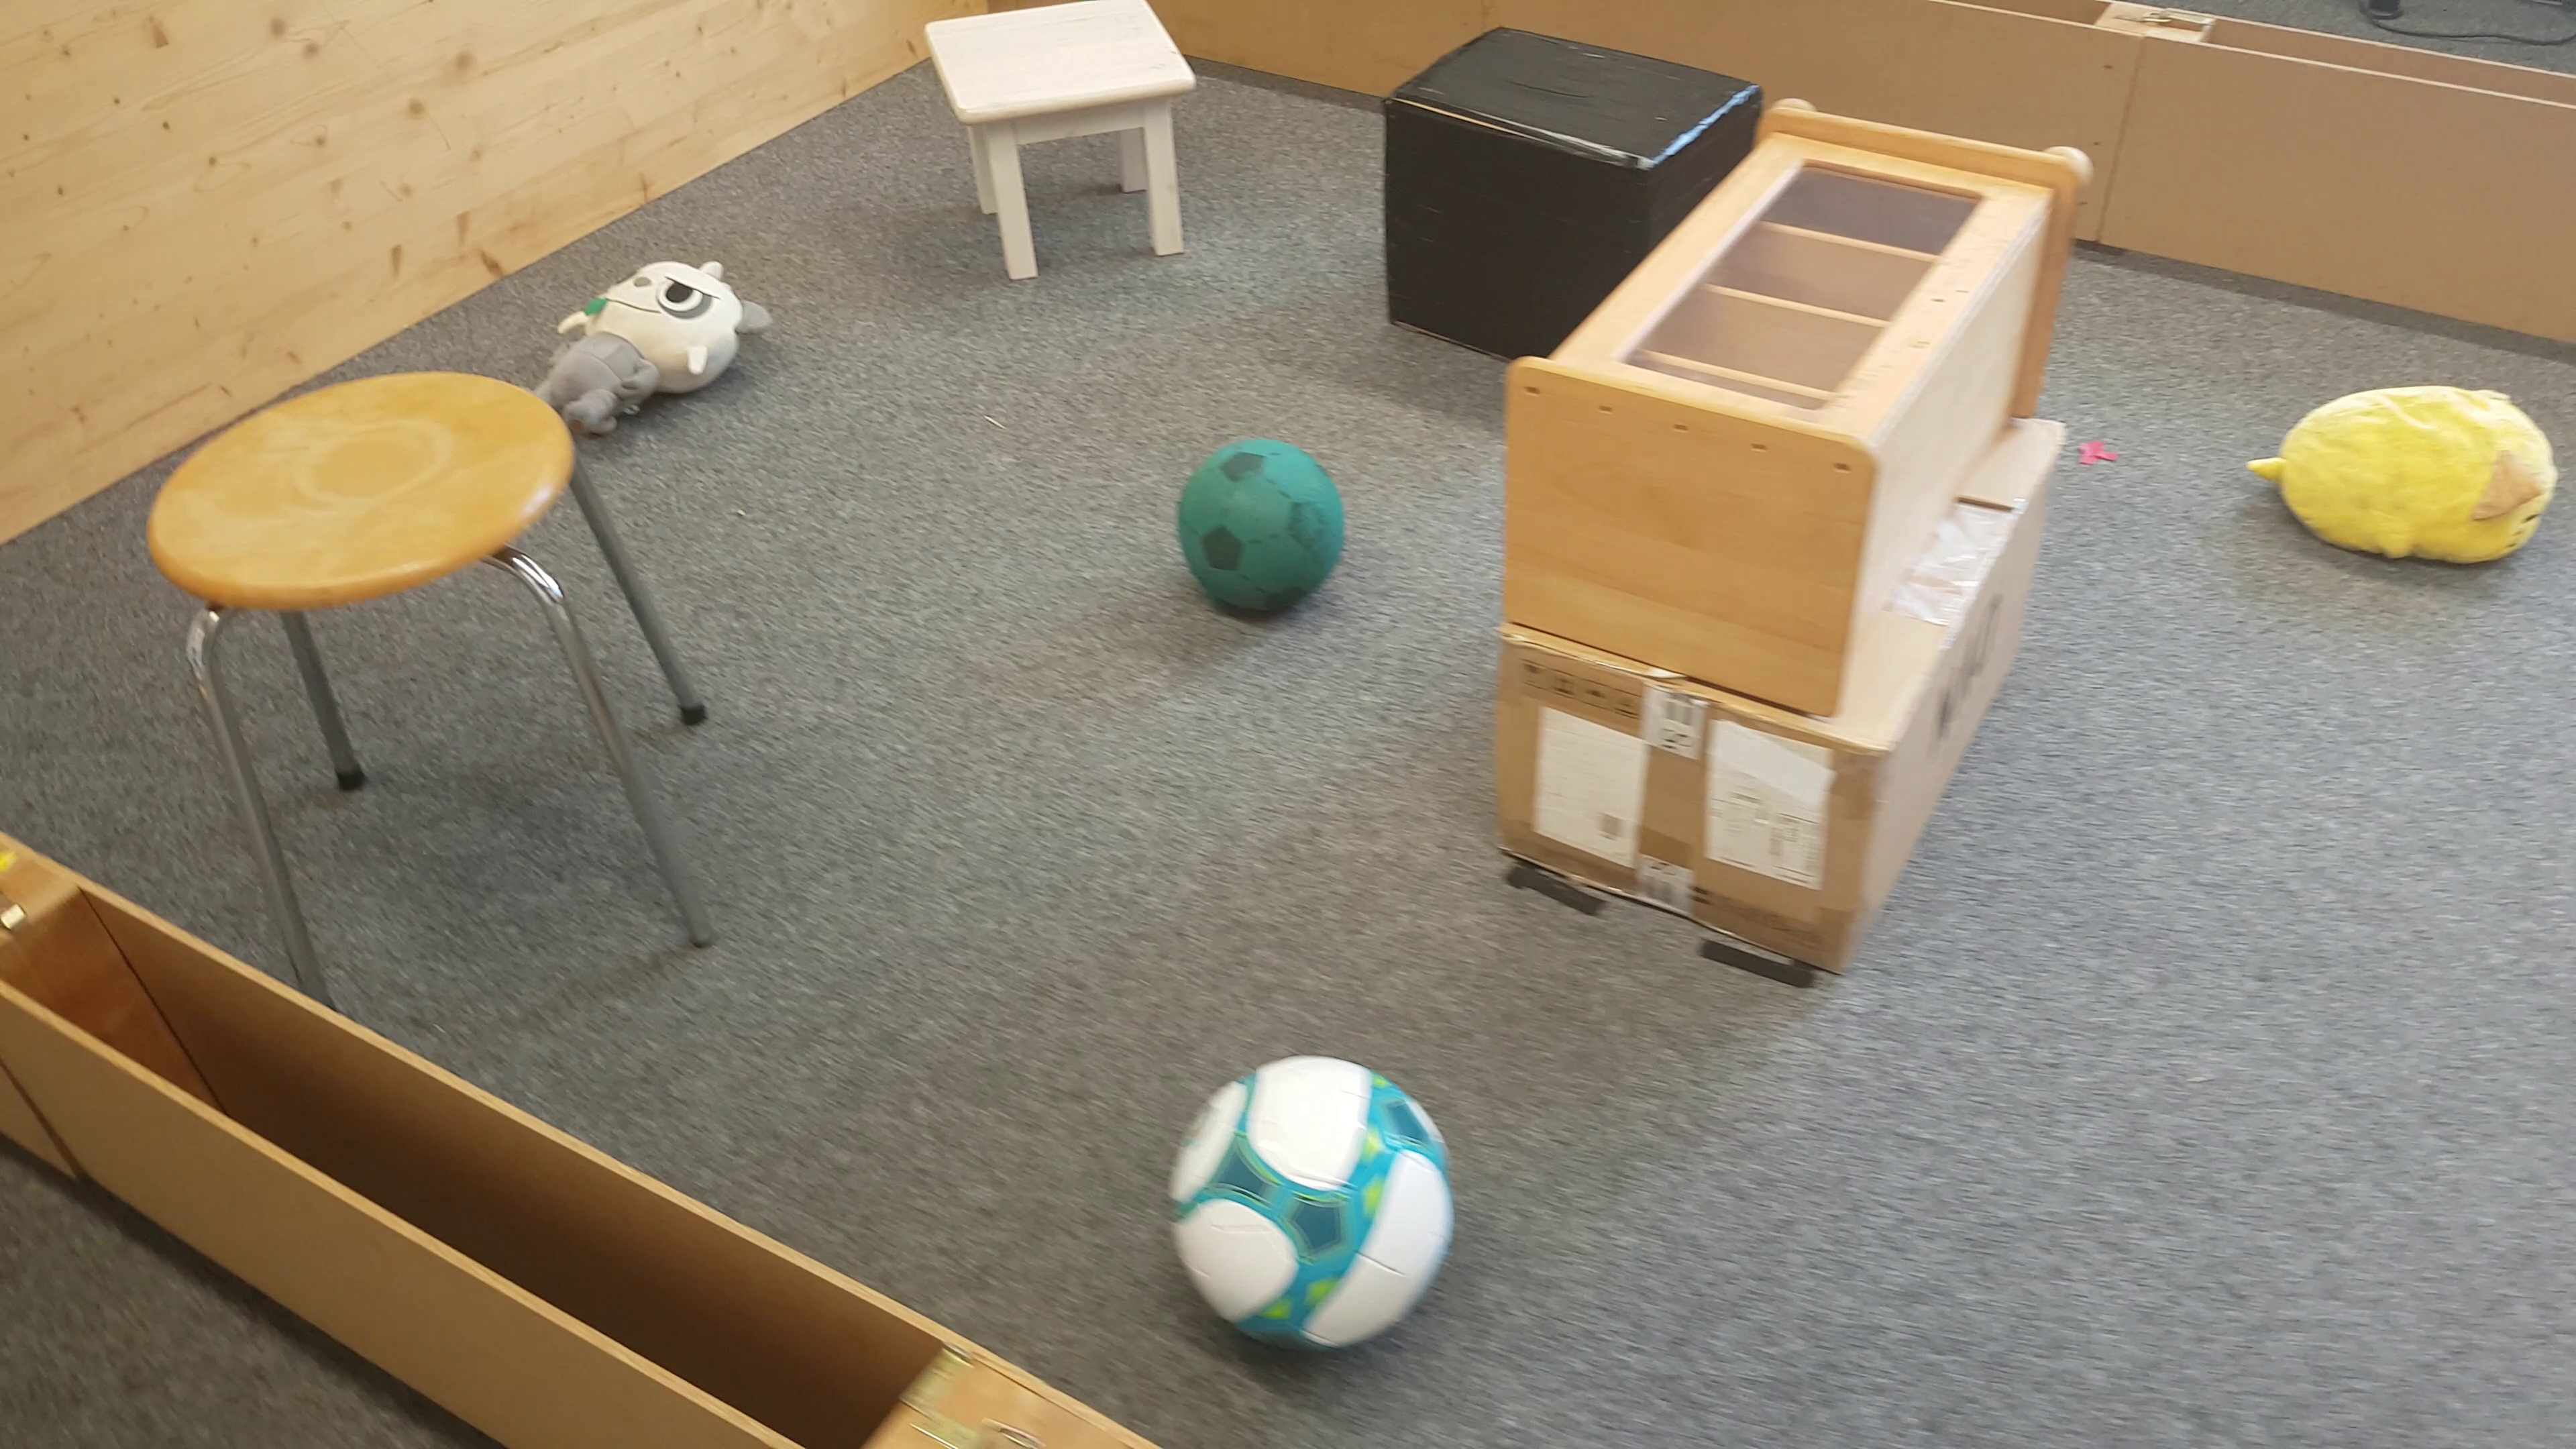grasp: (2235, 375, 2555, 582), (538, 258, 773, 439)
kick: (1171, 1056, 1449, 1362), (1175, 444, 1341, 630)
push: (1382, 18, 1575, 333)
